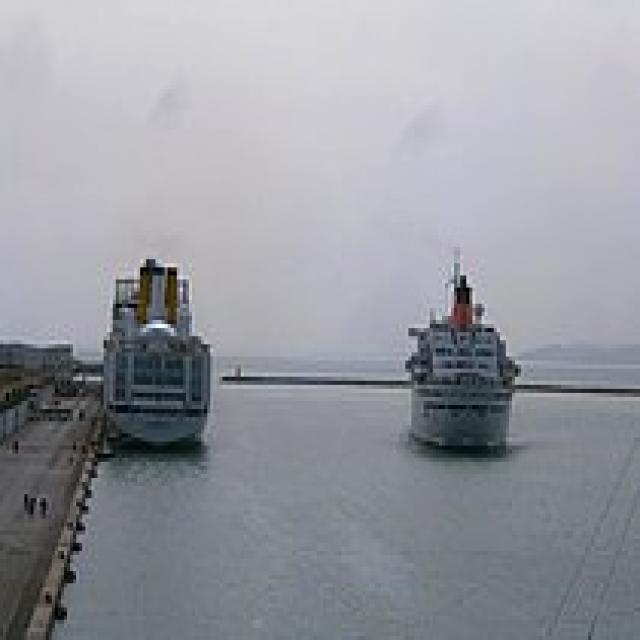Cruise: (399, 239, 521, 446), (98, 251, 210, 446)
